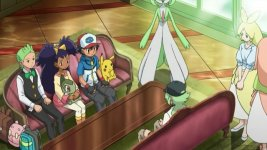gardevoir: (130, 1, 196, 88)
